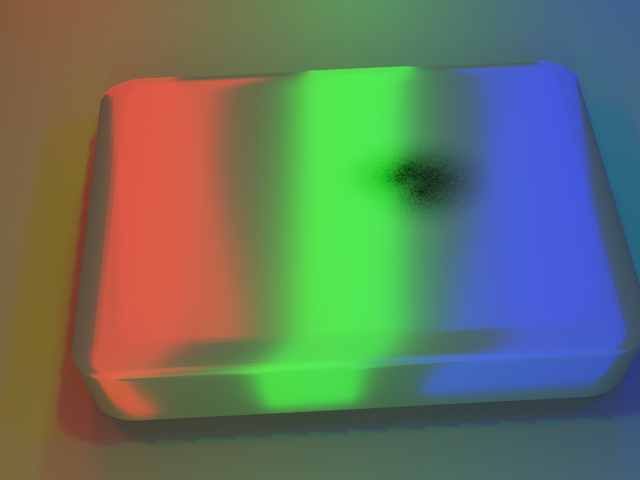stain: (315, 114, 535, 237)
